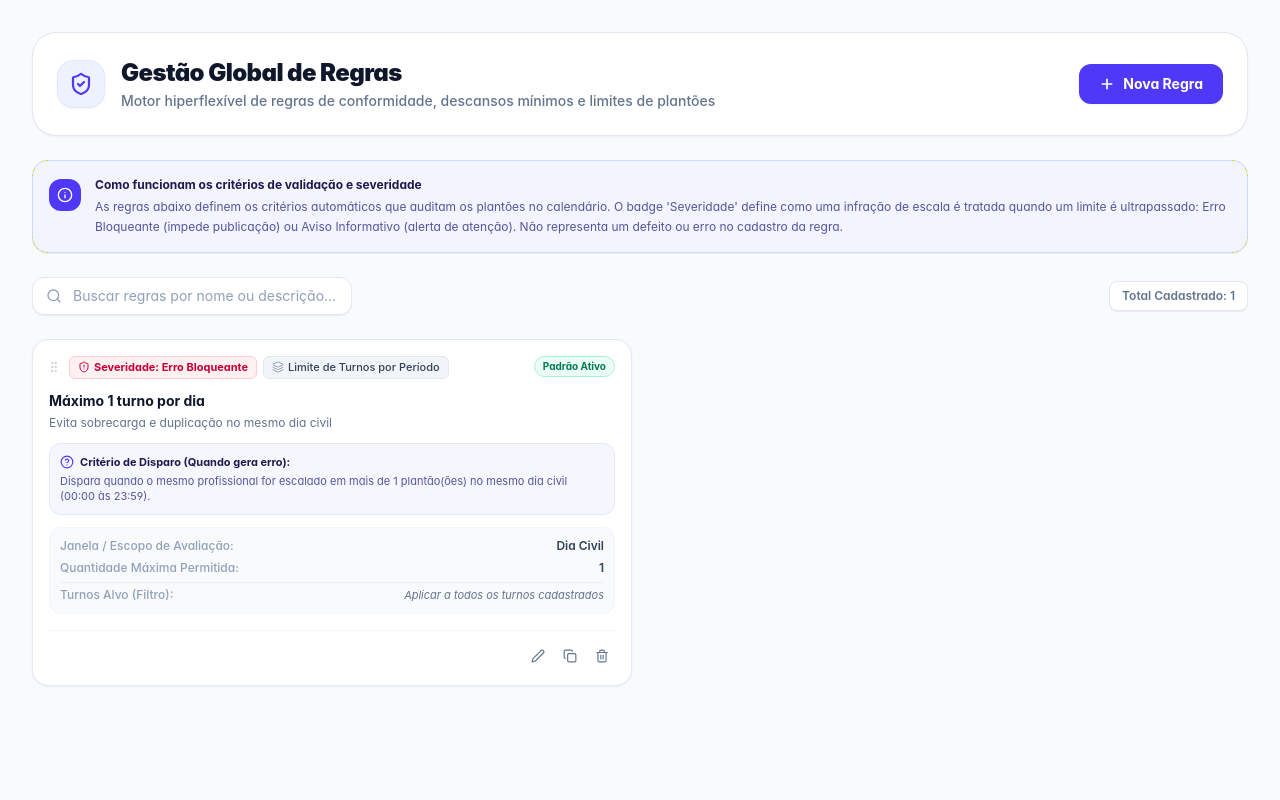
Test: RulesManagementView › deletes a rule after confirmation
Click the button titled "excluir": [602, 656] box top-left (589, 643), bottom-right (615, 669)
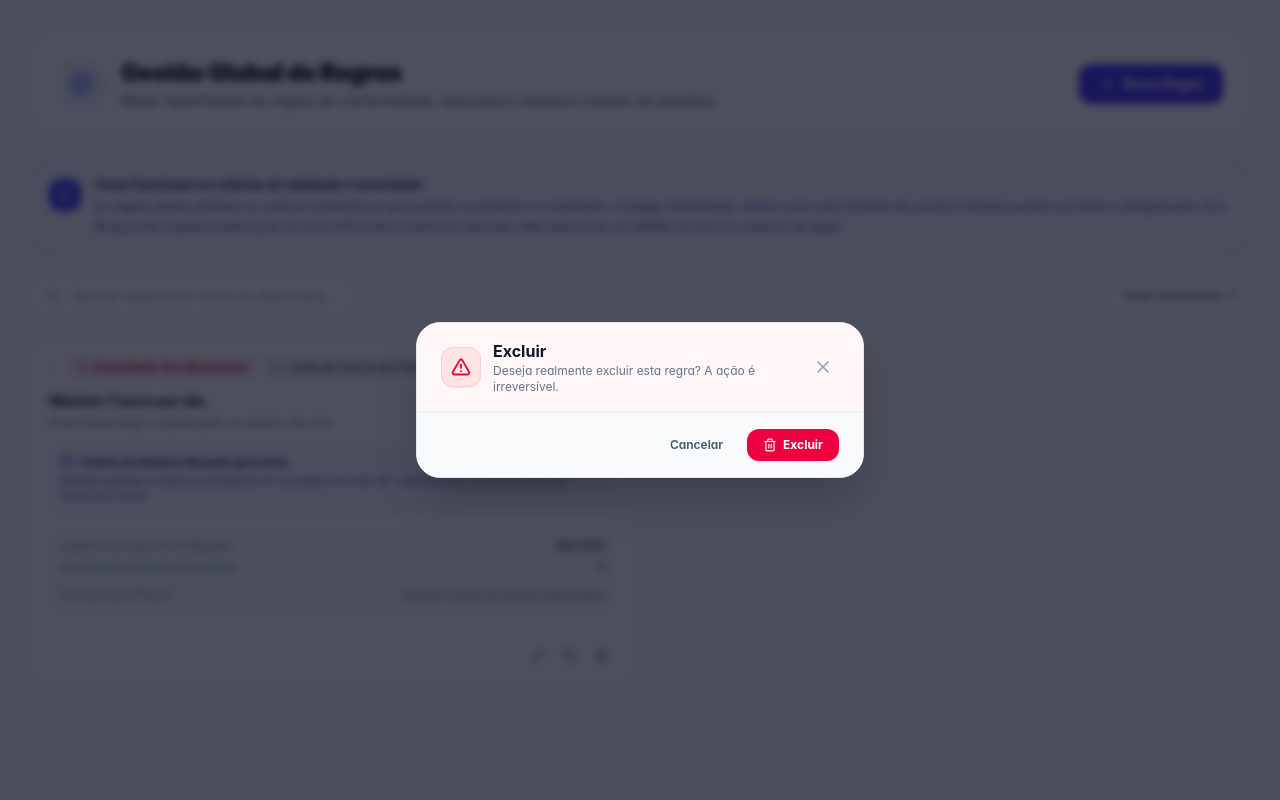
Expected: the text "Deseja realmente excluir esta regra? A ação é irreversível." is shown, top-left (493, 363), bottom-right (755, 394)
Confirm delete in modal
Click the button "Excluir": [793, 445] box top-left (747, 429), bottom-right (839, 461)
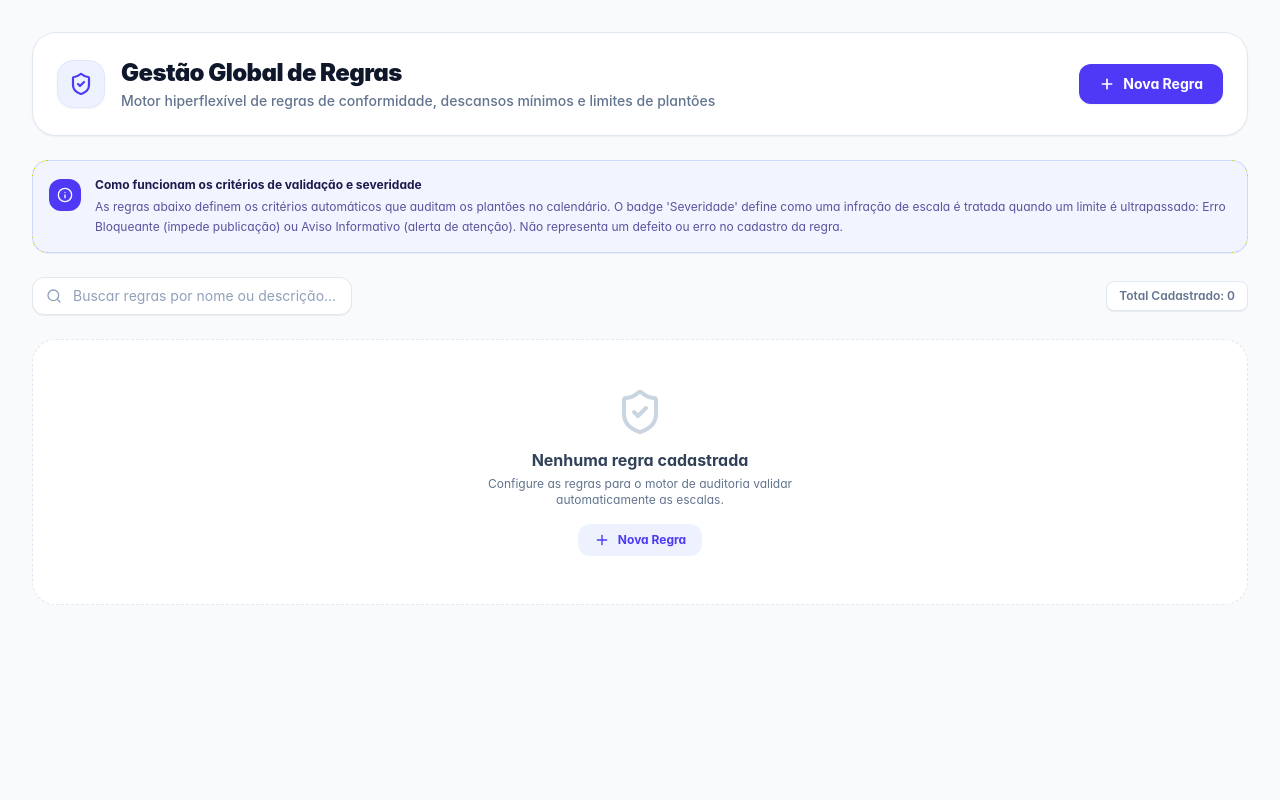
Expected: the heading "Máximo 1 turno por dia" is gone
